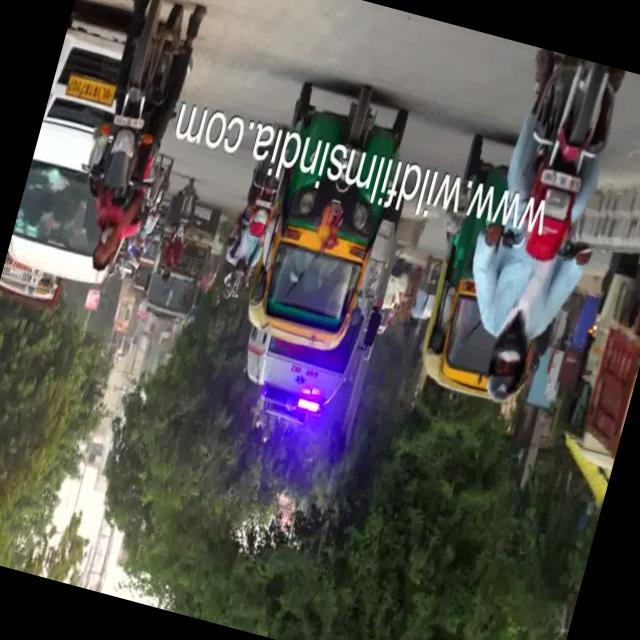ambulance: (222, 323, 371, 466)
